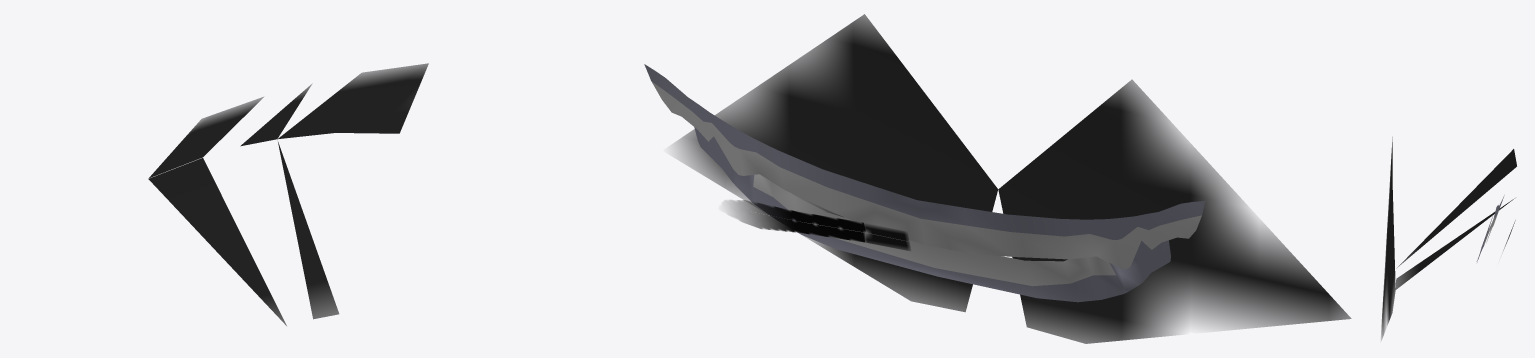
File: 30-vkei-emo-side-eye-moody-face-mouth.glb
3 renders of one model, left to right at view 1: azimuth 30°, elevation 25°; view 2: azimuth 150°, elevation 25°; view 3: azimuth 270°, elevation 25°, orthographic. The views are drawn at different scales.
Parts seen in each view (by area): view 1: 30-vkei-emo-side-eye-moody-face-mouth; view 2: 30-vkei-emo-side-eye-moody-face-mouth; view 3: 30-vkei-emo-side-eye-moody-face-mouth.
Boxes of the visible parts, <box> form: 30-vkei-emo-side-eye-moody-face-mouth: <box>148,63,428,325</box>; 30-vkei-emo-side-eye-moody-face-mouth: <box>644,14,1351,343</box>; 30-vkei-emo-side-eye-moody-face-mouth: <box>1381,137,1516,340</box>.
Size of the model in its own units: 0.341 by 0.1341 by 0.0852.
Materials: 3 (3 with a texture image).
